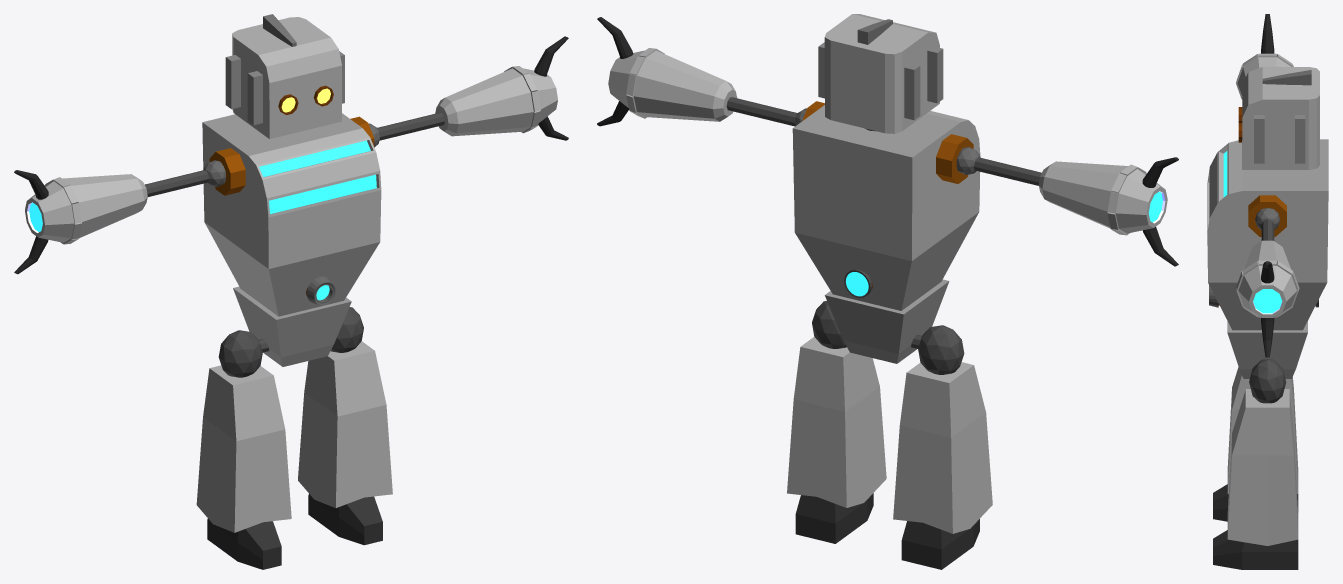
Rendered from Faith.fbx.
3 renders of one model, left to right at view 1: azimuth 30°, elevation 25°; view 2: azimuth 150°, elevation 25°; view 3: azimuth 270°, elevation 25°, orthographic. The views are drawn at different scales.
Visible parts, largest first — view 1: Cube, Cube.002, Cube.005, Cube.006, Cylinder.009, Cylinder.004, Cube.001, Cube.012, Cube.003, Cube.004, Icosphere.002, Cylinder.001 (+5 smaller); view 2: Cube, Cube.002, Cube.005, Cube.006, Cylinder.009, Cylinder.004, Cube.001, Cube.004, Cube.003, Icosphere.002, Cylinder.001, Icosphere.003 (+4 smaller); view 3: Cube, Cube.005, Cube.006, Cylinder.009, Cube.001, Cube.004, Icosphere.003, Cube.002, Cylinder.002, Cylinder.004, Cylinder.017, Cube.011 (+9 smaller).
Part boxes in pixels (left/top/right/bottom): Cube: left=202, top=113, right=381, bottom=316; Cube.002: left=196, top=365, right=291, bottom=532; Cube.005: left=298, top=341, right=392, bottom=507; Cube.006: left=232, top=17, right=341, bottom=139; Cylinder.009: left=435, top=66, right=557, bottom=136; Cylinder.004: left=25, top=174, right=147, bottom=244; Cube.001: left=233, top=286, right=351, bottom=366; Cube.012: left=259, top=140, right=376, bottom=213; Cube.003: left=207, top=518, right=281, bottom=569; Cube.004: left=308, top=494, right=382, bottom=545; Icosphere.002: left=218, top=330, right=262, bottom=377; Cylinder.001: left=209, top=148, right=245, bottom=195; Cube: left=792, top=105, right=980, bottom=310; Cube.002: left=893, top=362, right=992, bottom=533; Cube.005: left=787, top=337, right=886, bottom=507; Cube.006: left=824, top=14, right=939, bottom=133; Cylinder.009: left=608, top=48, right=737, bottom=121; Cylinder.004: left=1038, top=161, right=1167, bottom=235; Cube.001: left=824, top=279, right=949, bottom=363; Cube.004: left=795, top=493, right=873, bottom=543; Cube.003: left=901, top=519, right=979, bottom=569; Icosphere.002: left=918, top=325, right=964, bottom=374; Cylinder.001: left=936, top=134, right=973, bottom=183; Icosphere.003: left=812, top=301, right=846, bottom=348; Cube: left=1207, top=139, right=1328, bottom=330; Cube.005: left=1227, top=389, right=1298, bottom=545; Cube.006: left=1242, top=66, right=1319, bottom=169; Cylinder.009: left=1236, top=240, right=1299, bottom=317; Cube.001: left=1227, top=321, right=1307, bottom=378; Cube.004: left=1213, top=530, right=1298, bottom=569; Icosphere.003: left=1249, top=359, right=1286, bottom=403; Cube.002: left=1227, top=367, right=1298, bottom=493; Cylinder.002: left=1248, top=195, right=1286, bottom=236; Cylinder.004: left=1236, top=53, right=1293, bottom=99; Cylinder.017: left=1253, top=289, right=1281, bottom=313; Cube.011: left=1262, top=70, right=1311, bottom=85.
Bounding box in the file's own units: 291 × 252 × 59.58.
